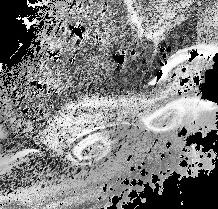CE: (70, 132, 112, 164)
